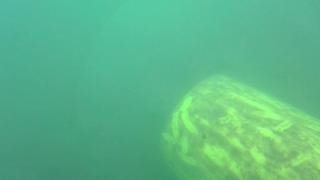pipe: (157, 73, 320, 180)
